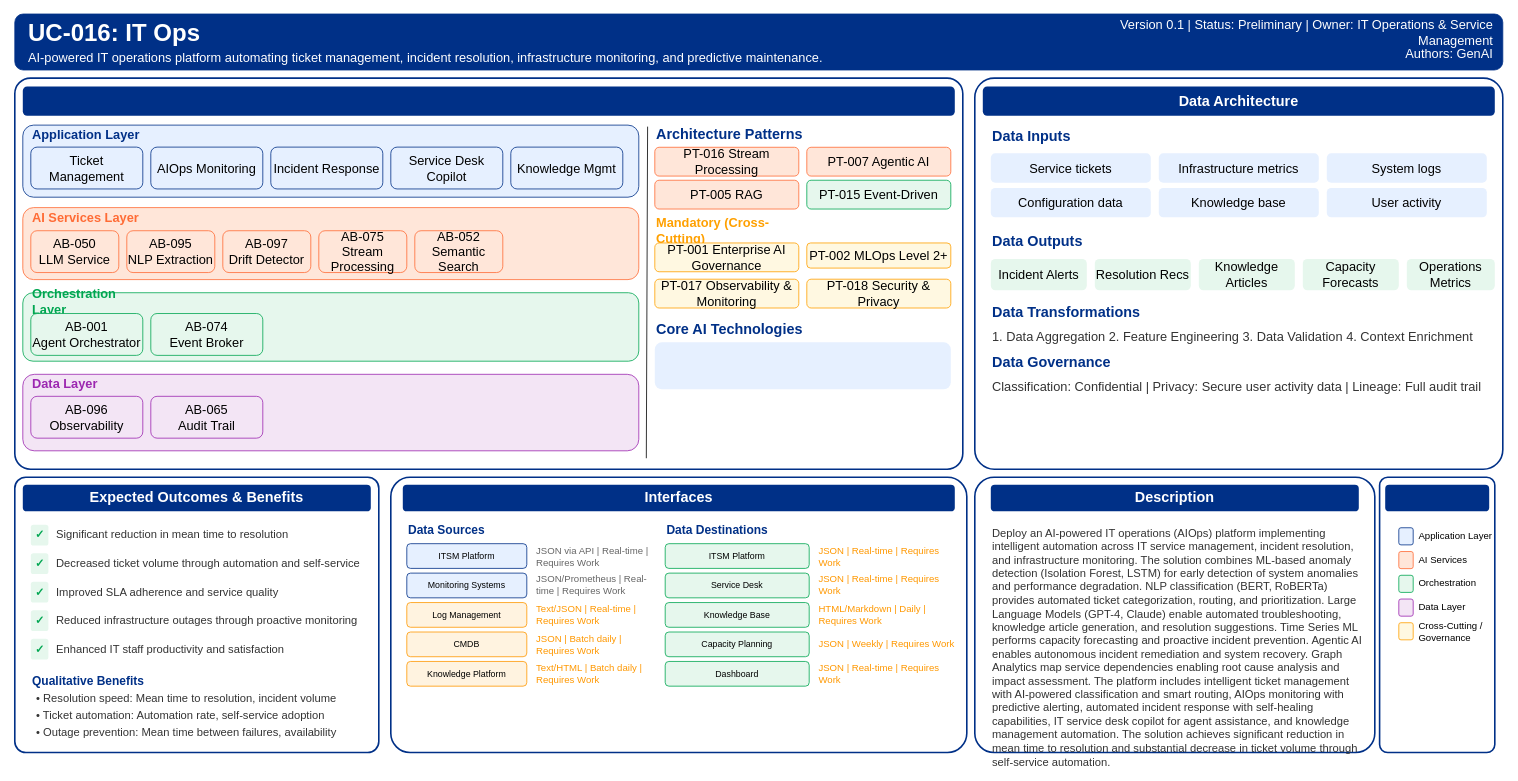
This 1518x781 diagram has some shape labels left out. Here are the shapes that lost their labels. From the top down, the centre of each, then its label:
pixel 488 100: Solution
pixel 802 365: Isolation Forest/LSTM | BERT/RoBERTa | GPT-4/Claude
pixel 1437 497: Legend
